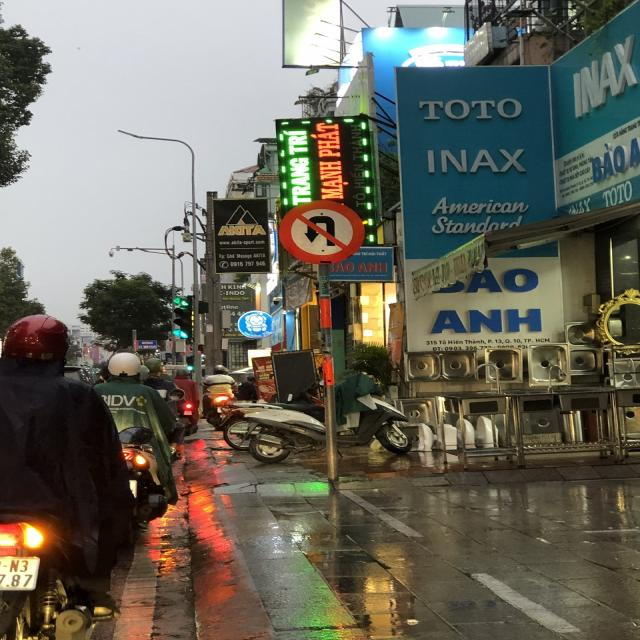Bien bao cam quay dau xe: (276, 198, 368, 267)
